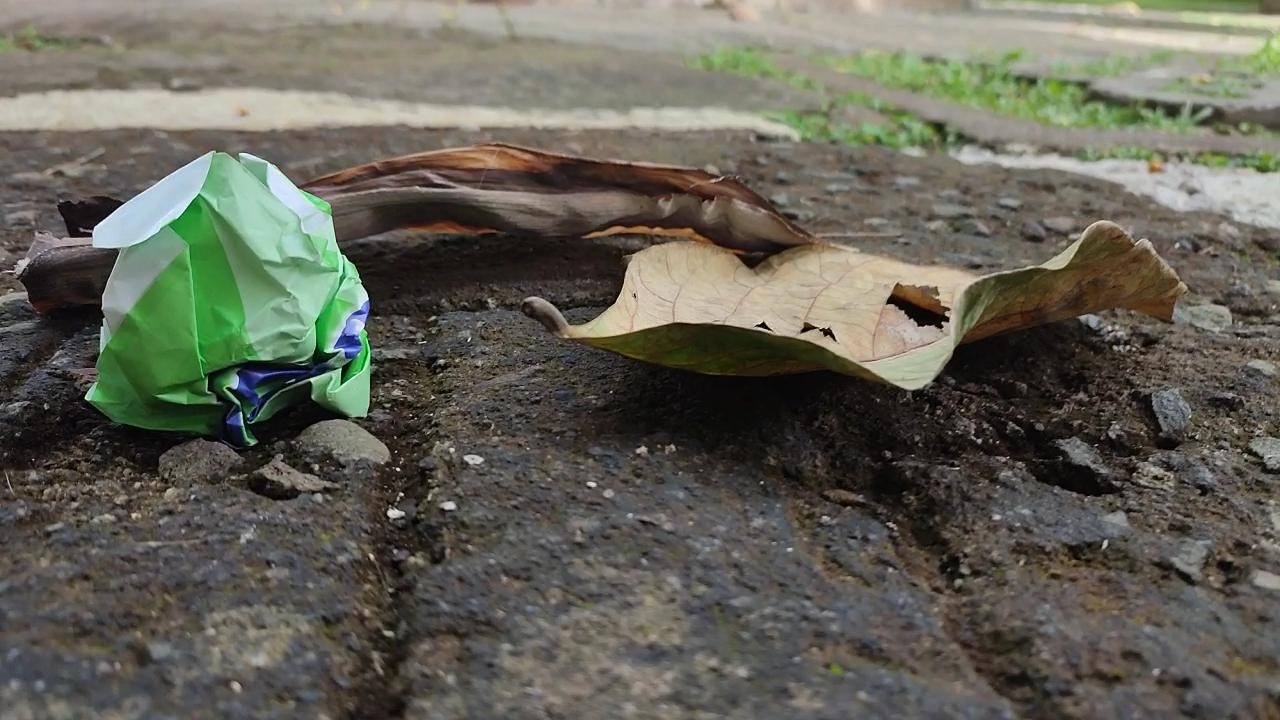Paper: (81, 146, 390, 451)
